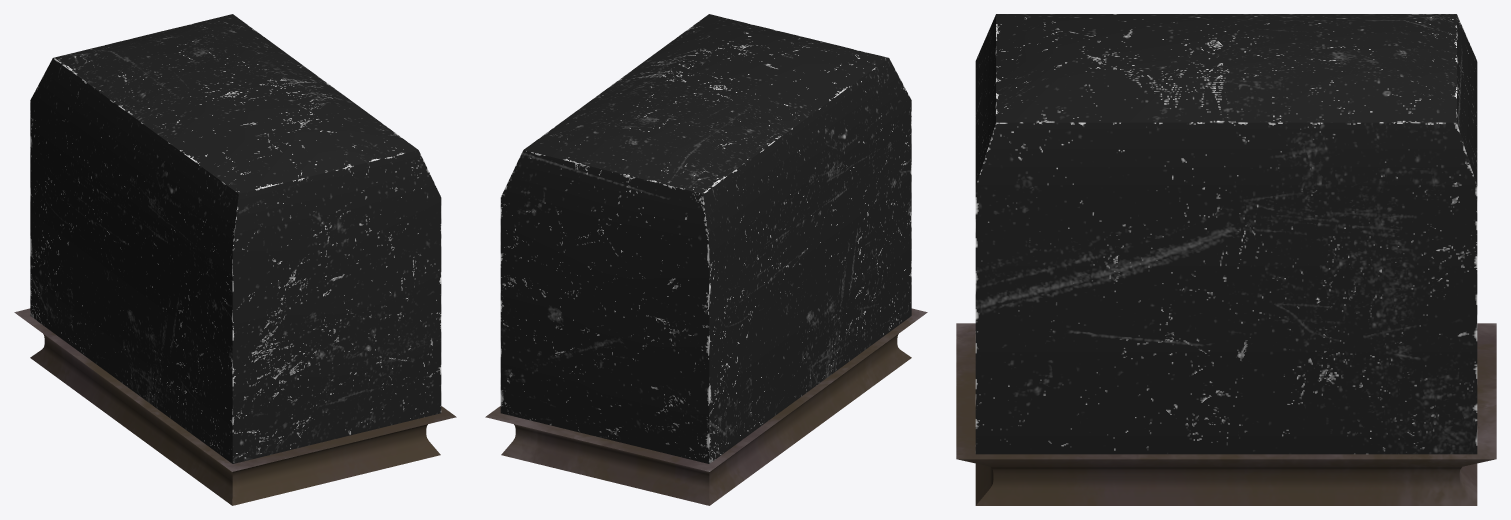
File: displayBox1.fbx
3 views of the same model, side by side, from view 1: azimuth 30°, elevation 25°; view 2: azimuth 150°, elevation 25°; view 3: azimuth 270°, elevation 25° (orthographic). The views are drawn at different scales.
Parts seen in each view (by area): view 1: GlassBox026, DisplayBoxVar012; view 2: GlassBox026, DisplayBoxVar012; view 3: GlassBox026, DisplayBoxVar012.
Part boxes in pixels (x1=…): GlassBox026: x1=30, y1=14, x2=441, y2=463; DisplayBoxVar012: x1=14, y1=308, x2=456, y2=505; GlassBox026: x1=500, y1=14, x2=911, y2=463; DisplayBoxVar012: x1=485, y1=308, x2=927, y2=505; GlassBox026: x1=975, y1=14, x2=1477, y2=454; DisplayBoxVar012: x1=956, y1=323, x2=1496, y2=505.
Bounding box in the file's own units: 169 × 228 × 284.
2 materials, 2 textured.
